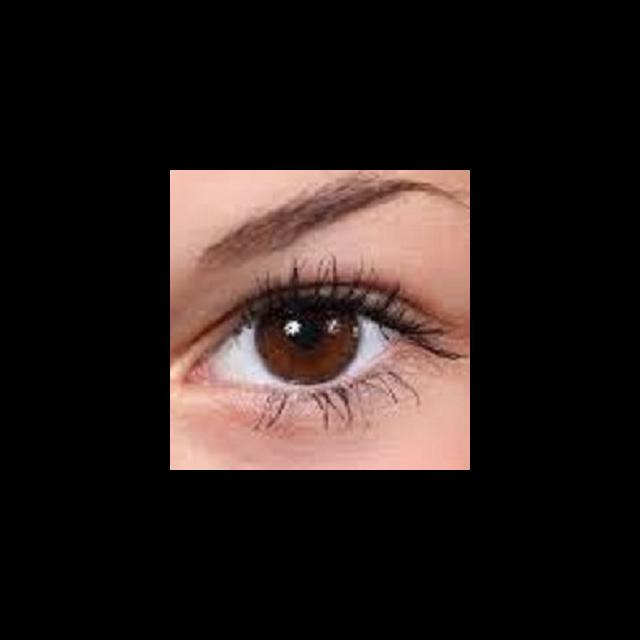eye: (218, 300, 405, 387)
iris: (255, 304, 361, 384)
